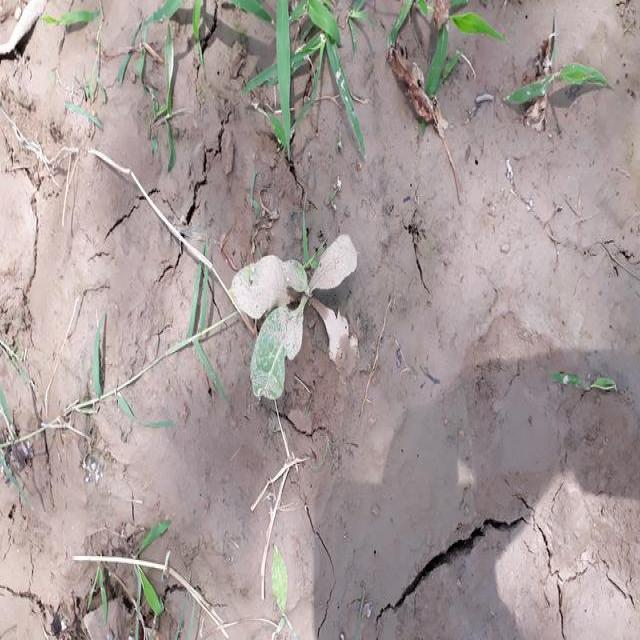crop: (229, 236, 373, 404)
